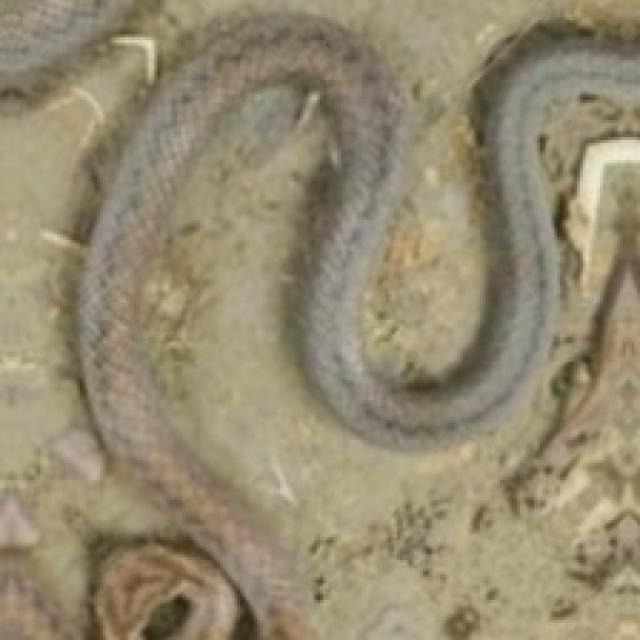reinhardts lined snake: (80, 15, 639, 640), (95, 544, 239, 640), (0, 0, 135, 93)
